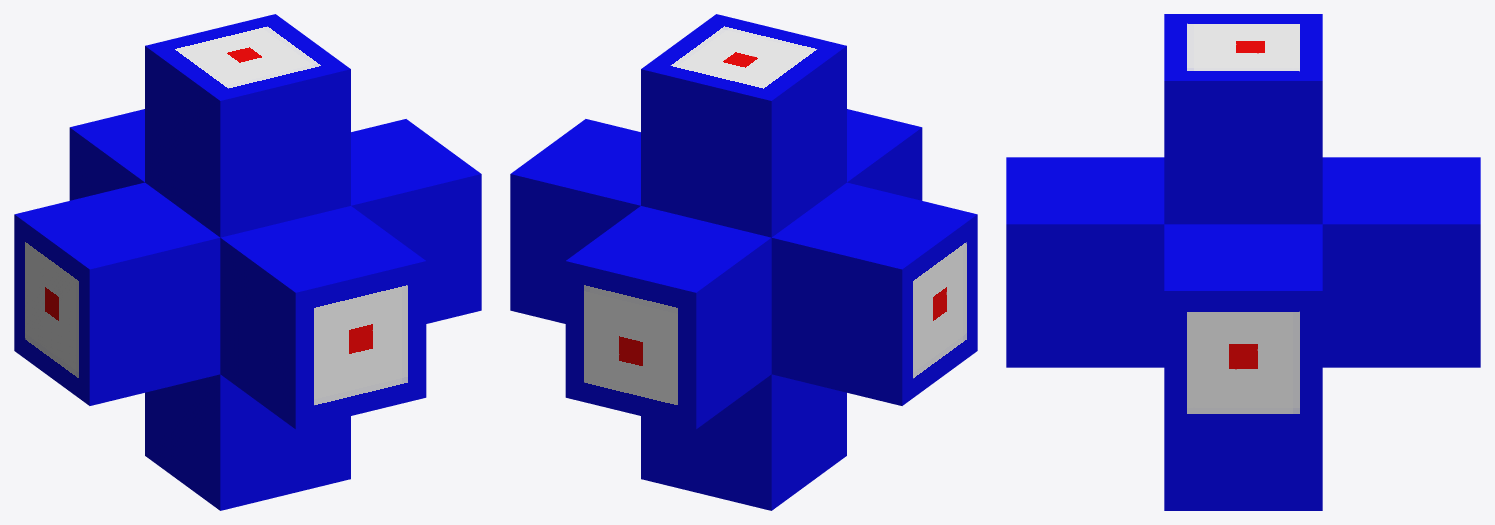
The model's file is Mine.fbx.
The picture shows the model from 3 angles, left to right: view 1: azimuth 30°, elevation 25°; view 2: azimuth 150°, elevation 25°; view 3: azimuth 270°, elevation 25°; orthographic projection. The views are drawn at different scales.
Visible parts, largest first — view 1: Mine; view 2: Mine; view 3: Mine.
Part boxes in pixels (x1=…): Mine: x1=14, y1=14, x2=481, y2=510; Mine: x1=510, y1=14, x2=977, y2=510; Mine: x1=1006, y1=14, x2=1480, y2=510.
Bounding box in the file's own units: 0.3028 × 0.3028 × 0.3028.
Materials: 1 (1 with a texture image).
